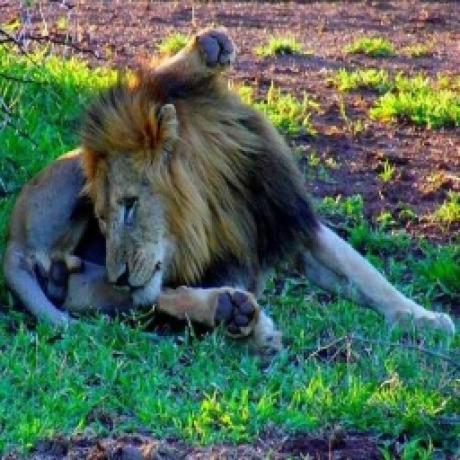Lion: (0, 25, 459, 357)
